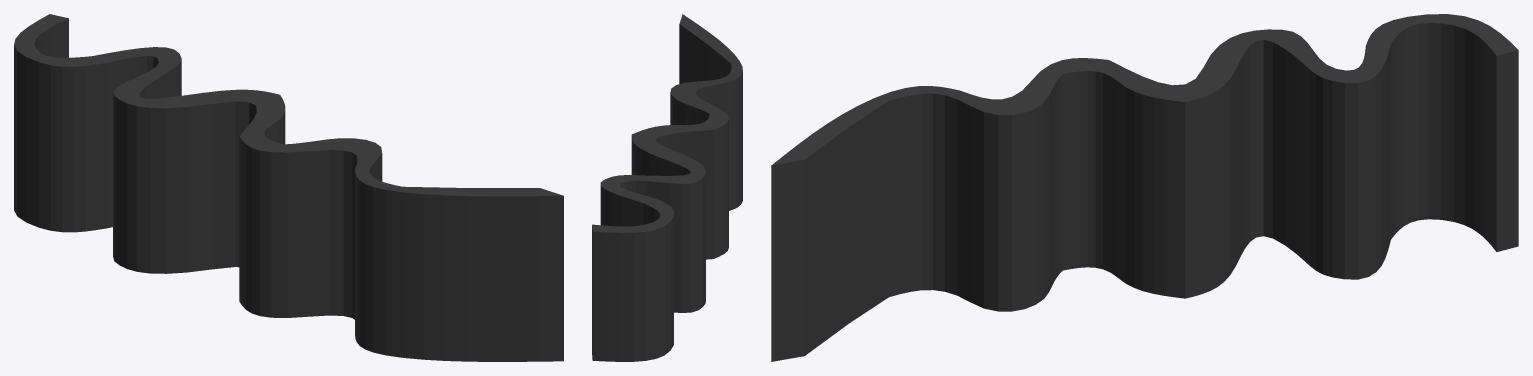
The model's file is noir3.FBX.
3 renders of one model, left to right at view 1: azimuth 30°, elevation 25°; view 2: azimuth 150°, elevation 25°; view 3: azimuth 270°, elevation 25°, orthographic. The views are drawn at different scales.
Visible parts, largest first — view 1: Ligne010; view 2: Ligne010; view 3: Ligne010.
Part boxes in pixels (bbox=[...]): Ligne010: bbox=[14, 14, 563, 361]; Ligne010: bbox=[592, 14, 742, 361]; Ligne010: bbox=[771, 14, 1518, 361].
Bounding box in the file's own units: 5.87 × 3.55 × 12.24.
Materials: 1 (1 with a texture image).
